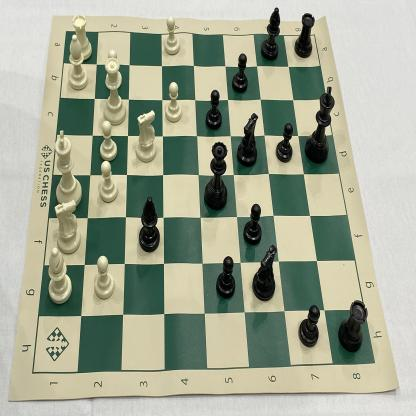black-bishop: (136, 193, 161, 255), (261, 4, 283, 63)
black-king: (303, 84, 336, 166)
black-knight: (251, 241, 280, 305), (236, 109, 259, 169)
black-pawn: (296, 300, 323, 352), (214, 252, 237, 300), (273, 119, 295, 167), (242, 202, 264, 247), (204, 86, 224, 135), (230, 51, 249, 95)
black-queen: (203, 136, 230, 214)
black-rook: (336, 297, 369, 355), (293, 9, 317, 62)
white-bishop: (46, 245, 74, 304), (66, 33, 90, 92)
white-king: (53, 126, 83, 208)
white-knight: (52, 197, 82, 256), (133, 109, 158, 166)
white-pawn: (93, 254, 116, 302), (96, 160, 119, 206), (103, 48, 124, 90), (161, 15, 182, 57), (98, 119, 118, 163), (165, 82, 184, 126)
white-queen: (98, 58, 129, 126)
white-rook: (70, 9, 94, 62)
